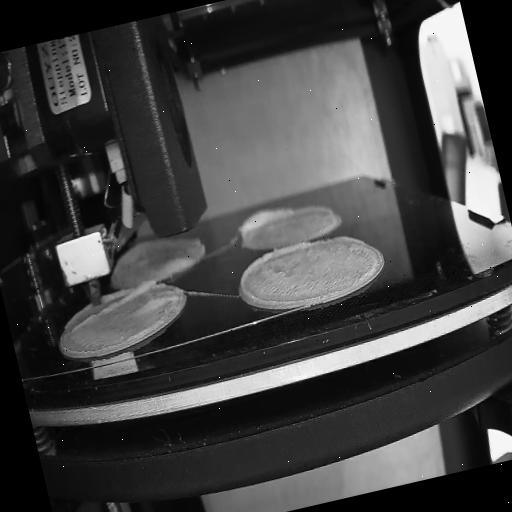over_extrusion: (234, 238, 326, 316), (64, 275, 164, 334), (232, 199, 300, 242), (328, 226, 367, 252), (298, 198, 336, 224)
